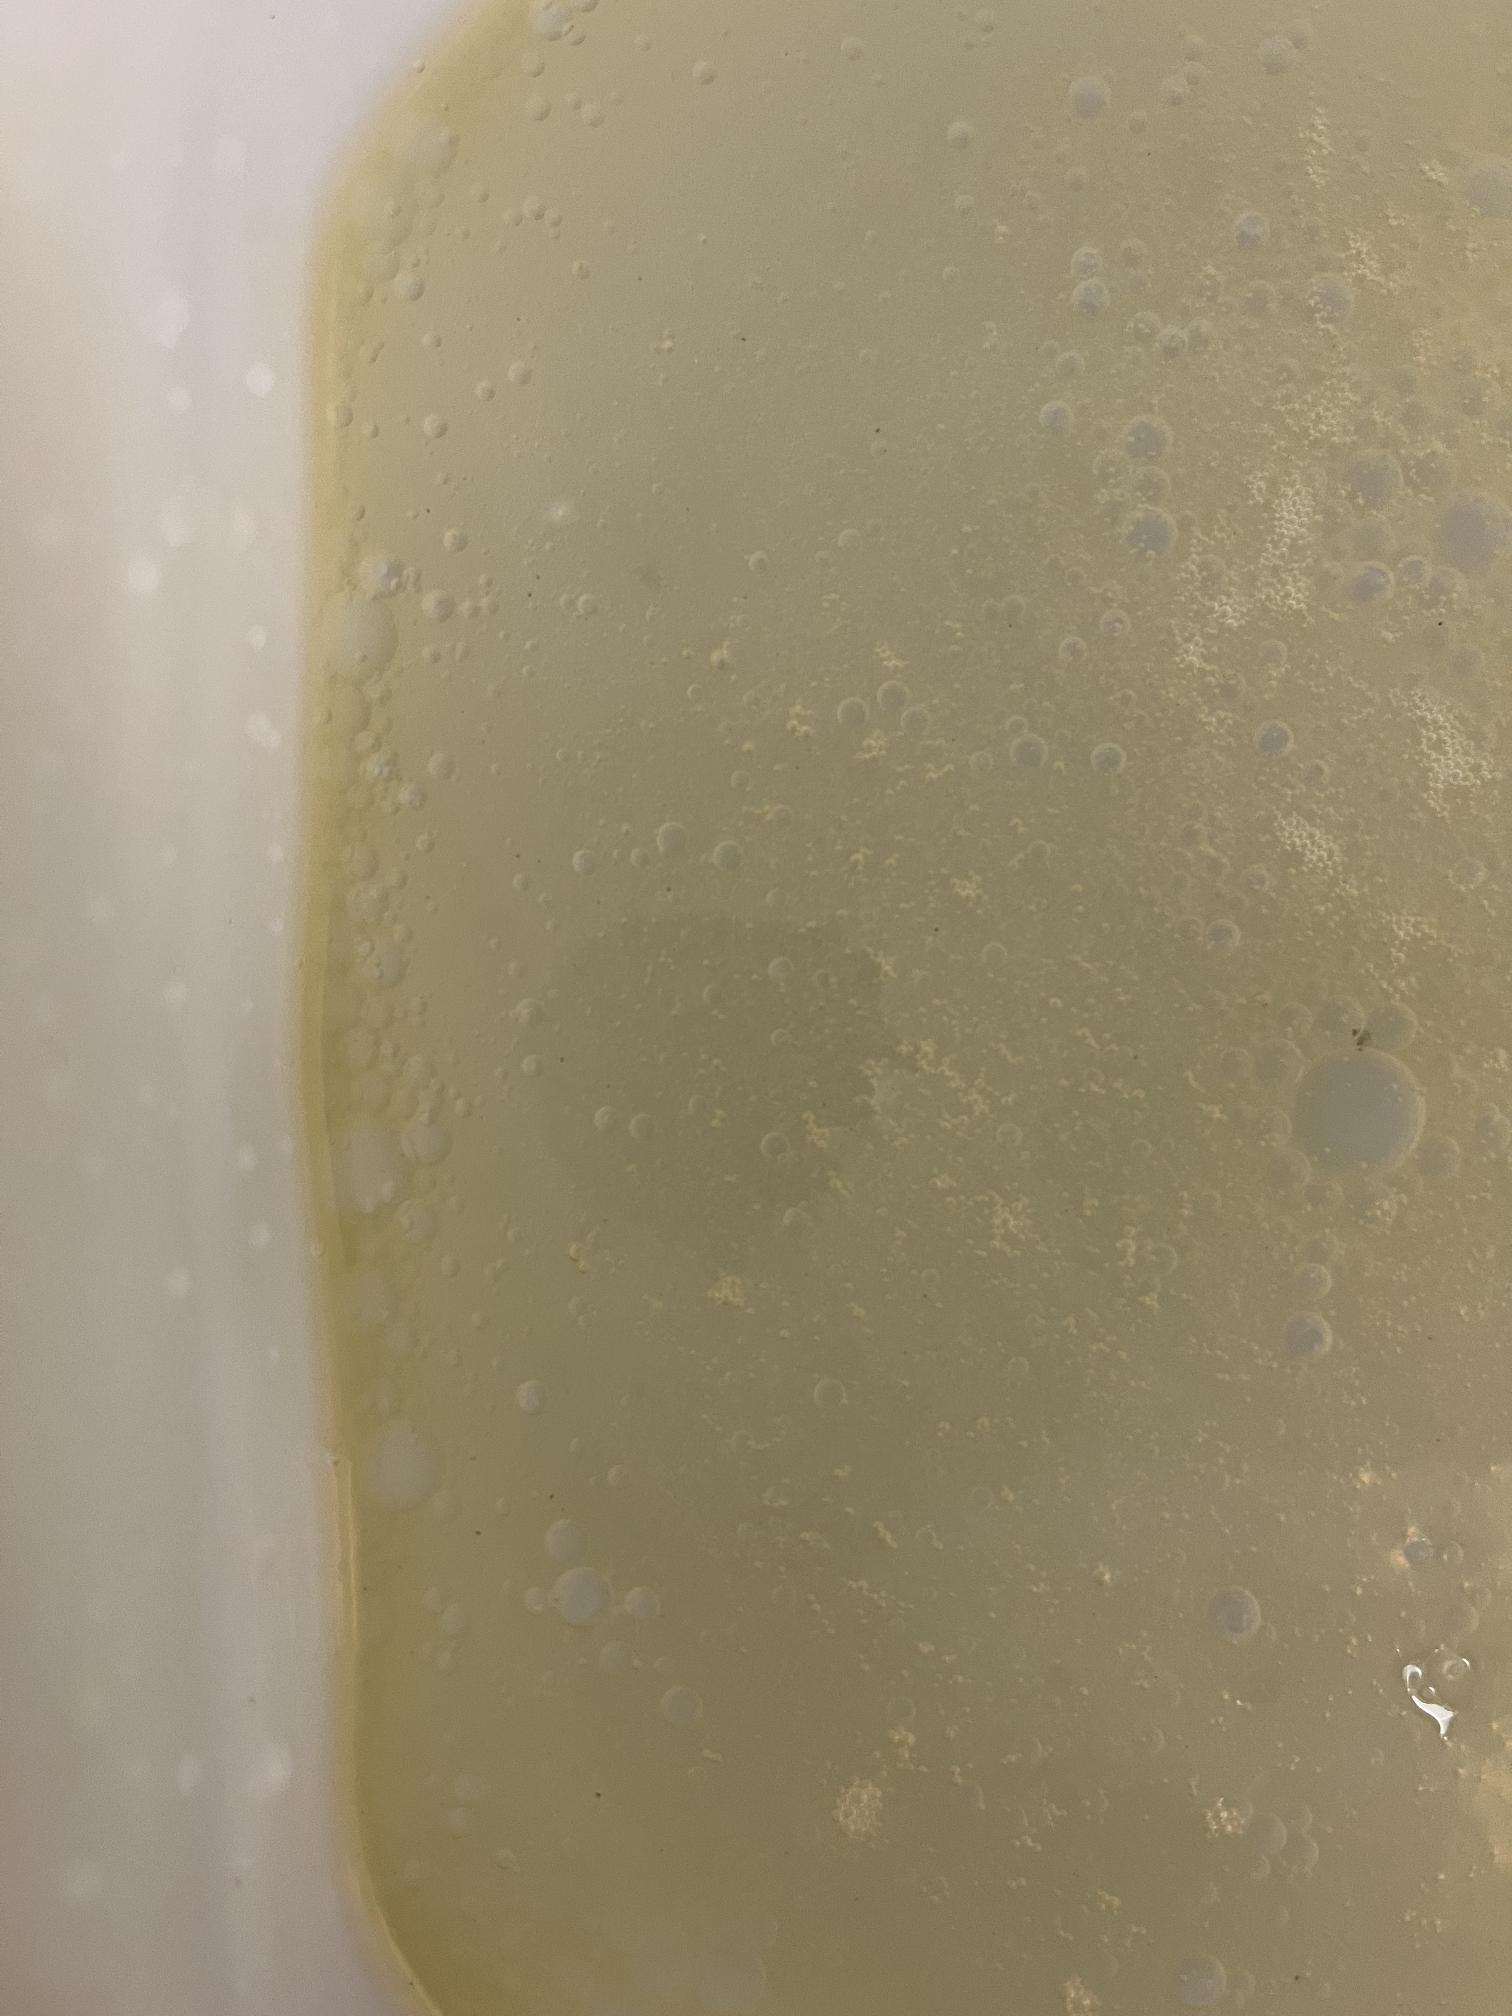Galao: (149, 60, 1464, 1910)
